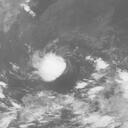cyclone: (39, 52, 67, 82)
